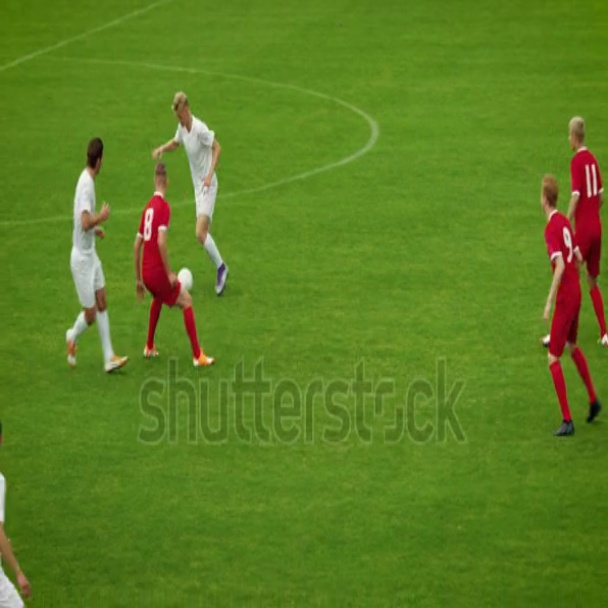ball: (178, 265, 196, 301)
